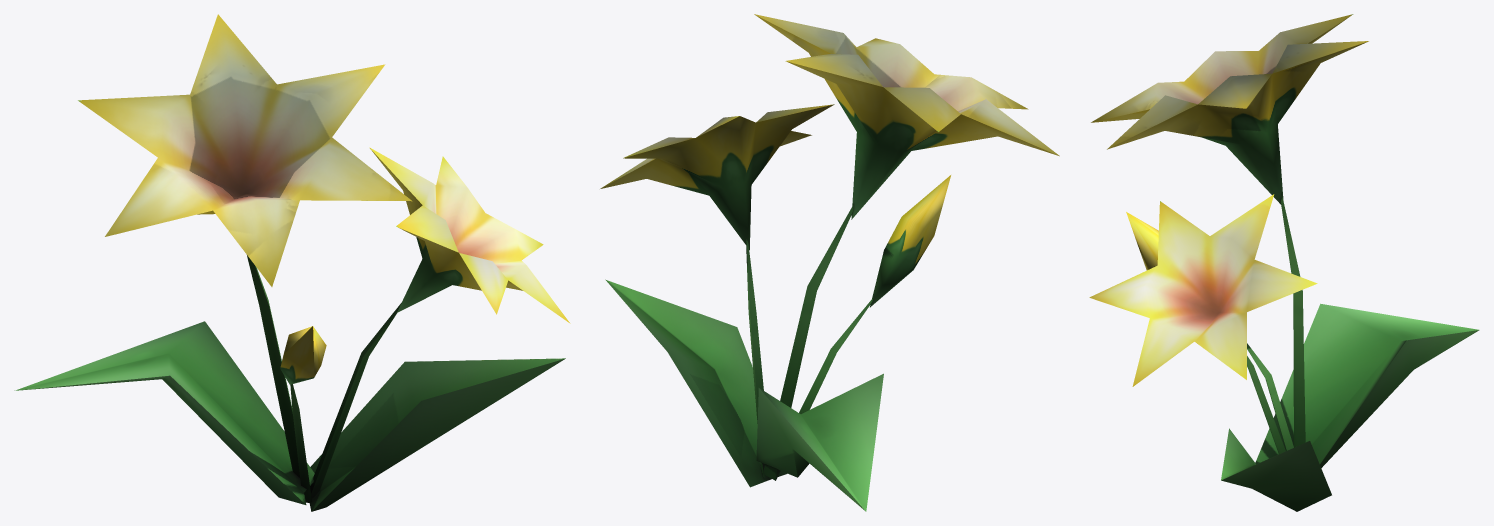
File: Fllower_03.fbx
3 renders of one model, left to right at view 1: azimuth 30°, elevation 25°; view 2: azimuth 150°, elevation 25°; view 3: azimuth 270°, elevation 25°, orthographic. The views are drawn at different scales.
Parts seen in each view (by area): view 1: Fllower_A3; view 2: Fllower_A3; view 3: Fllower_A3.
Boxes of the visible parts, x1,y1,x2,y2 form: Fllower_A3: (14, 14, 570, 511); Fllower_A3: (600, 14, 1059, 511); Fllower_A3: (1089, 14, 1479, 511).
Size of the model in its own units: 5.68 by 5.61 by 4.51.
1 material, 1 textured.
